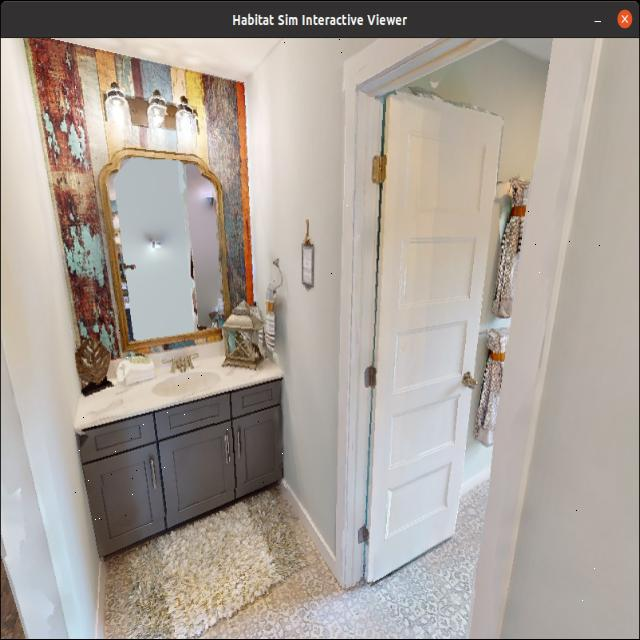door: (356, 89, 508, 590)
door-frame: (329, 38, 606, 640)
sink: (68, 329, 295, 520)
